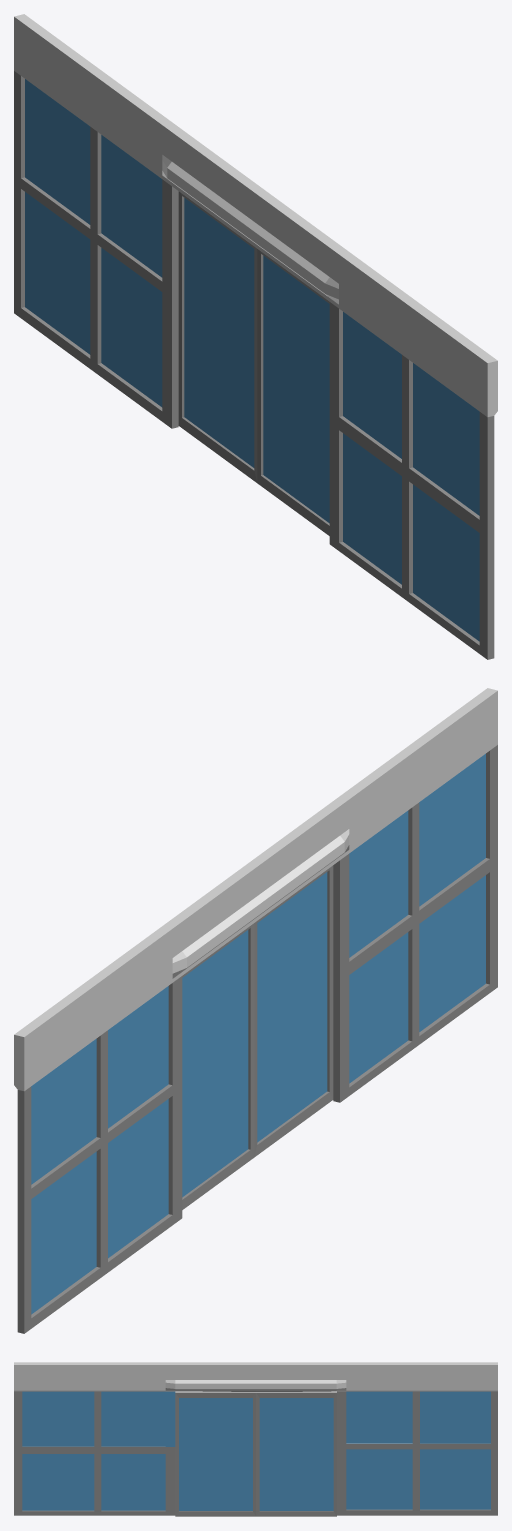
File: AutoDoor.fbx
The picture shows the model from 3 angles, top to bottom: view 1: azimuth 30°, elevation 25°; view 2: azimuth 150°, elevation 25°; view 3: azimuth 270°, elevation 25°; orthographic projection. The views are drawn at different scales.
Parts seen in each view (by area): view 1: Cube; view 2: Cube; view 3: Cube.
Boxes of the visible parts, <box> form: Cube: <box>14,14,497,659</box>; Cube: <box>14,688,497,1333</box>; Cube: <box>14,1362,497,1516</box>.
Size of what is drawn, in the model's own units: 9.74 by 145 by 421.
